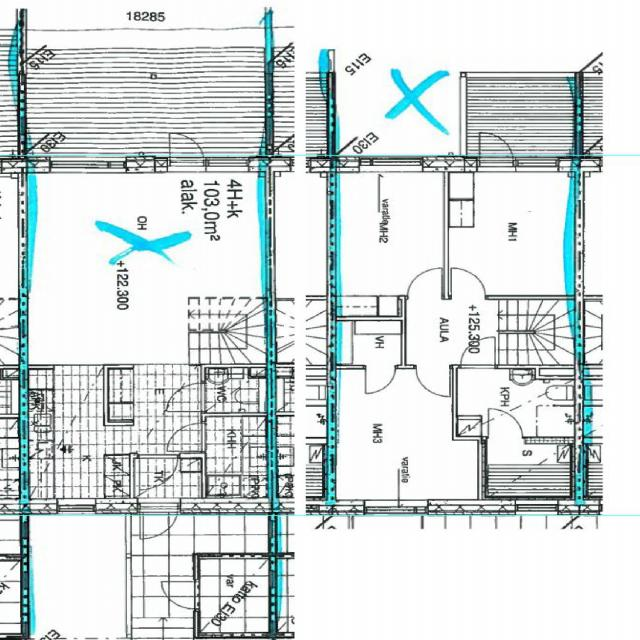door: (140, 498, 178, 544), (479, 128, 513, 172), (170, 129, 203, 173), (139, 453, 177, 489), (488, 409, 522, 443), (167, 423, 206, 451), (167, 383, 206, 411), (461, 336, 495, 368), (416, 364, 450, 396), (408, 268, 442, 300), (451, 268, 484, 299), (162, 582, 200, 608), (365, 364, 395, 392)
